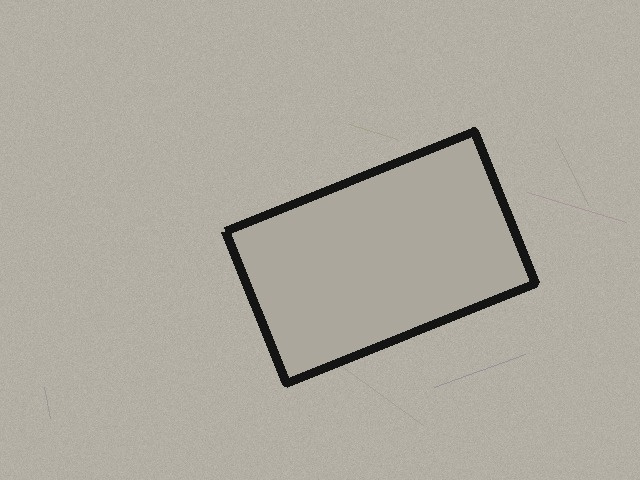parking_area: (225, 131, 535, 383)
